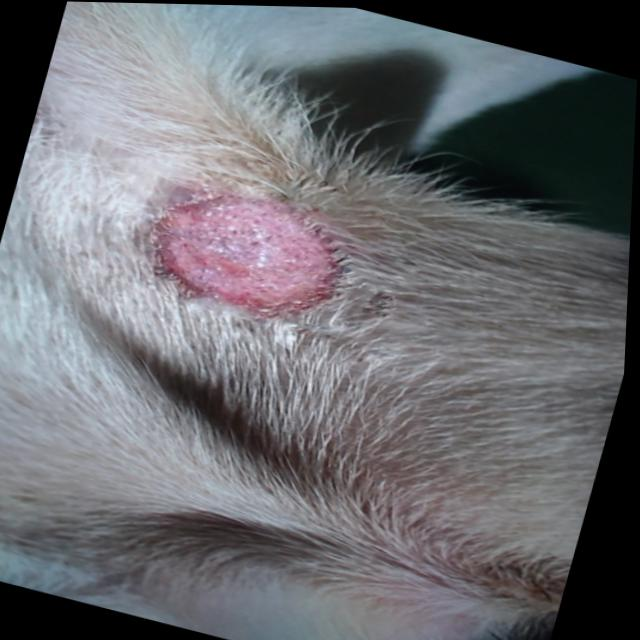ringworm: (106, 154, 383, 344)
